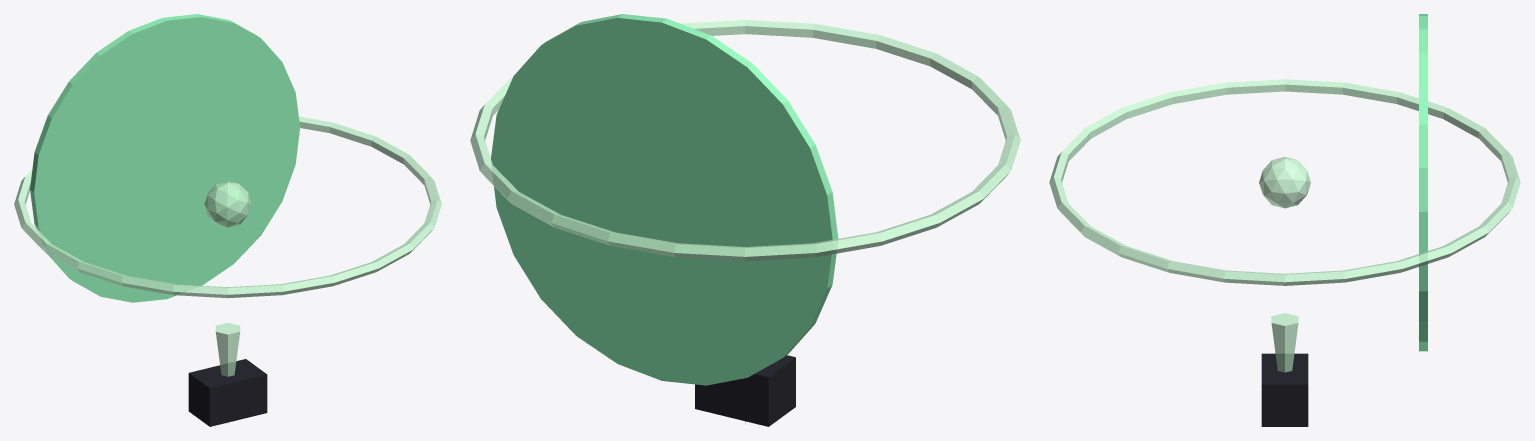
File: 05_combat_start_camera_rig.glb
The picture shows the model from 3 angles, left to right: view 1: azimuth 30°, elevation 25°; view 2: azimuth 150°, elevation 25°; view 3: azimuth 270°, elevation 25°; orthographic projection. The views are drawn at different scales.
Parts seen in each view (by area): view 1: combat_start_trigger_disc, camera_orbit_track, camera_proxy, target_focus_point, look_vector; view 2: combat_start_trigger_disc, camera_orbit_track, camera_proxy; view 3: camera_orbit_track, camera_proxy, combat_start_trigger_disc, target_focus_point, look_vector.
Boxes of the visible parts, x1,y1,x2,y2 form: combat_start_trigger_disc: [30, 14, 300, 302]; camera_orbit_track: [14, 116, 441, 298]; camera_proxy: [188, 359, 267, 426]; target_focus_point: [204, 181, 251, 227]; look_vector: [215, 322, 240, 423]; combat_start_trigger_disc: [491, 14, 838, 385]; camera_orbit_track: [470, 20, 1020, 261]; camera_proxy: [695, 355, 795, 426]; camera_orbit_track: [1049, 79, 1520, 285]; camera_proxy: [1261, 353, 1308, 426]; combat_start_trigger_disc: [1419, 14, 1427, 351]; target_focus_point: [1259, 157, 1310, 208]; look_vector: [1271, 313, 1298, 372].
Bounding box in the file's own units: 1.81 × 1.68 × 1.81.
